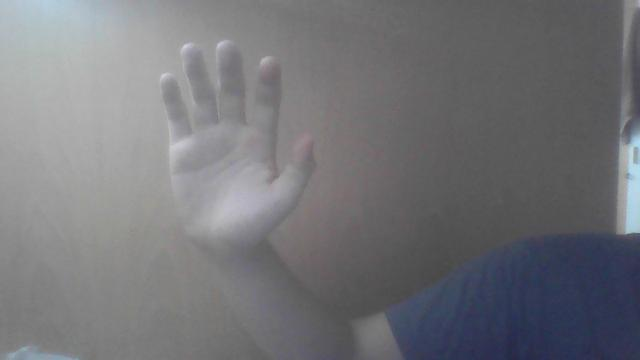Stop: (152, 40, 324, 282)
